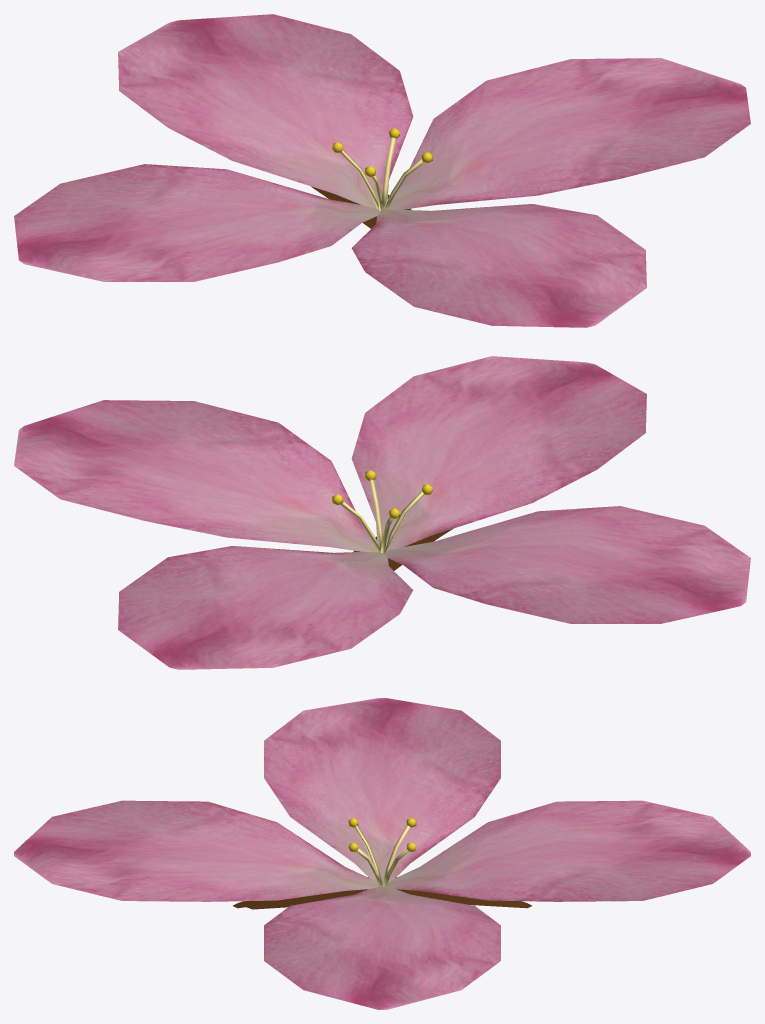
The model's file is Flower.fbx.
3 views of the same model, one above another, from view 1: azimuth 30°, elevation 25°; view 2: azimuth 150°, elevation 25°; view 3: azimuth 270°, elevation 25° (orthographic). The views are drawn at different scales.
Visible parts, largest first — view 1: Flower; view 2: Flower; view 3: Flower, Clip.
Part boxes in pixels (bbox=[...]): Flower: bbox=[14, 14, 750, 327]; Flower: bbox=[14, 356, 750, 669]; Flower: bbox=[14, 698, 750, 1009]; Clip: bbox=[233, 877, 531, 909].
Size of the model in its own units: 458 by 52.89 by 458.
Materials: 1 (1 with a texture image).
